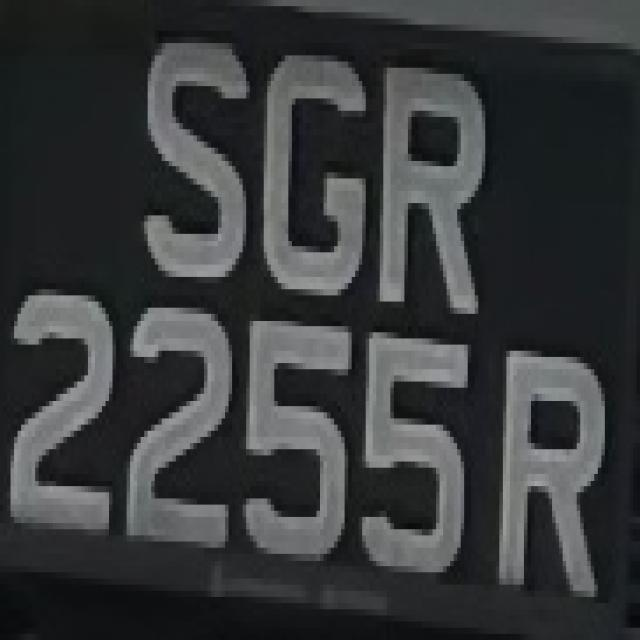2: (123, 252, 250, 585), (4, 265, 123, 572)
5: (228, 277, 352, 585), (359, 277, 471, 585)
G: (250, 18, 372, 314)
R: (496, 320, 619, 615), (373, 31, 485, 338)
S: (127, 19, 246, 308)
